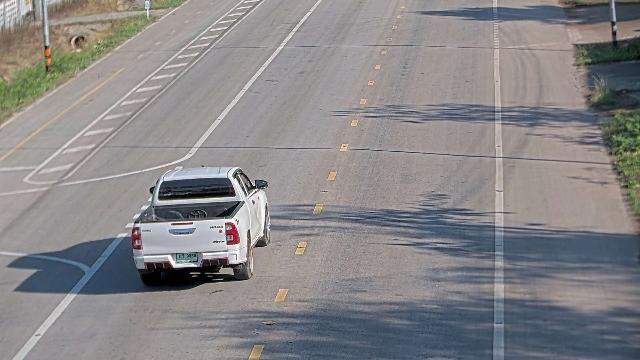pickup-truck: (126, 165, 271, 285)
